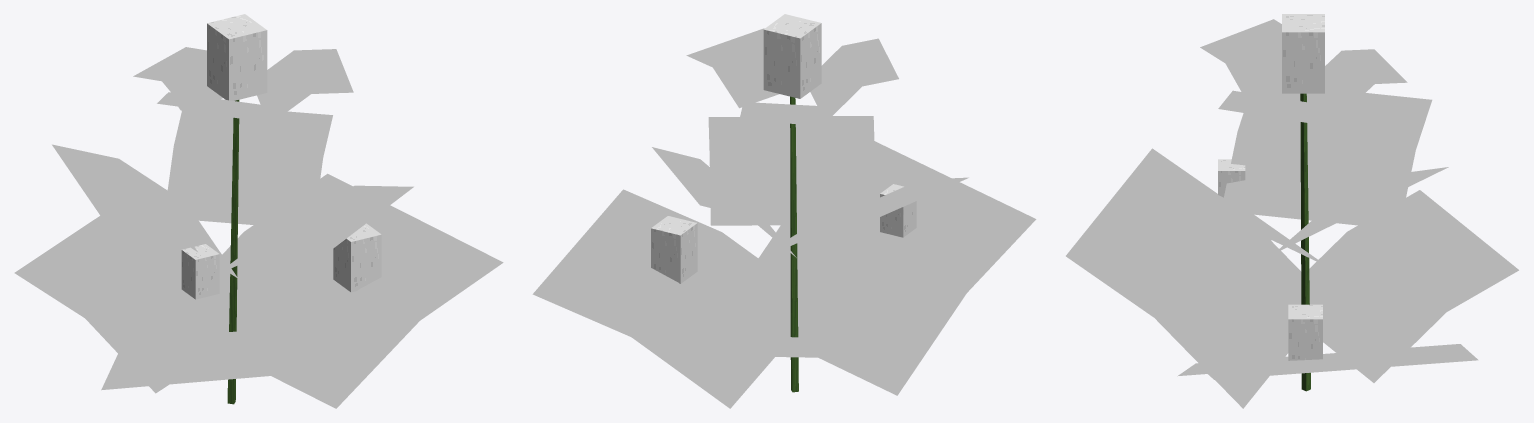
Rendered from plant_3_0_0_lod.obj.
3 views of the same model, side by side, from view 1: azimuth 30°, elevation 25°; view 2: azimuth 150°, elevation 25°; view 3: azimuth 270°, elevation 25° (orthographic). The views are drawn at different scales.
Parts seen in each view (by area): view 1: model; view 2: model; view 3: model.
Part boxes in pixels (x1,y1,x2,y2): model: (14,14,503,408); model: (532,14,1036,408); model: (1066,14,1518,408).
Size of the model in its own units: 0.9553 by 0.8648 by 0.9665.
